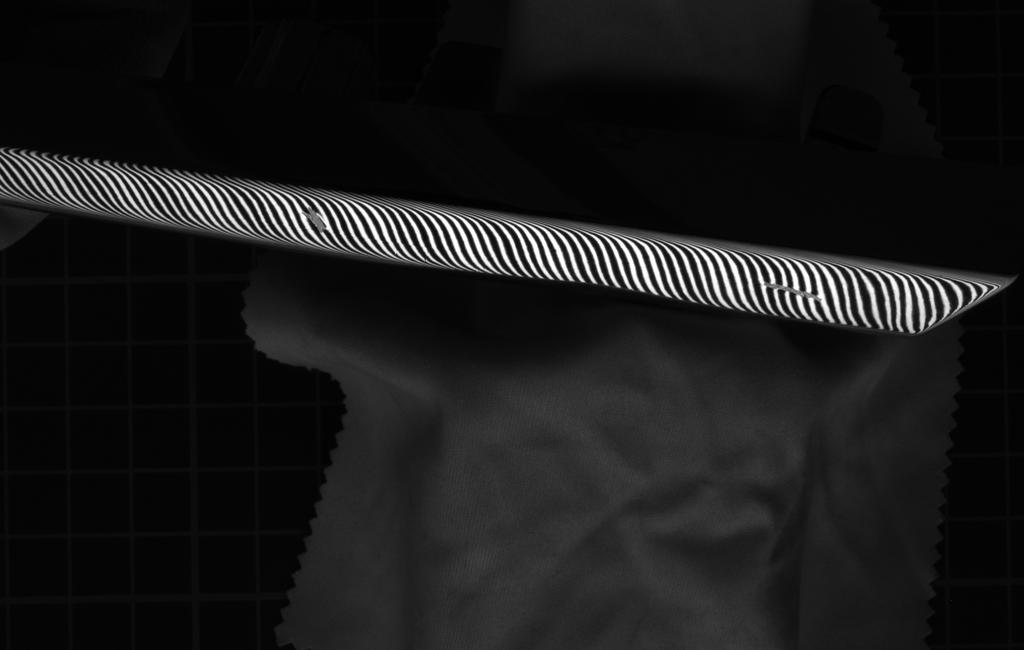Scratch: (758, 275, 828, 305), (301, 204, 334, 239)
